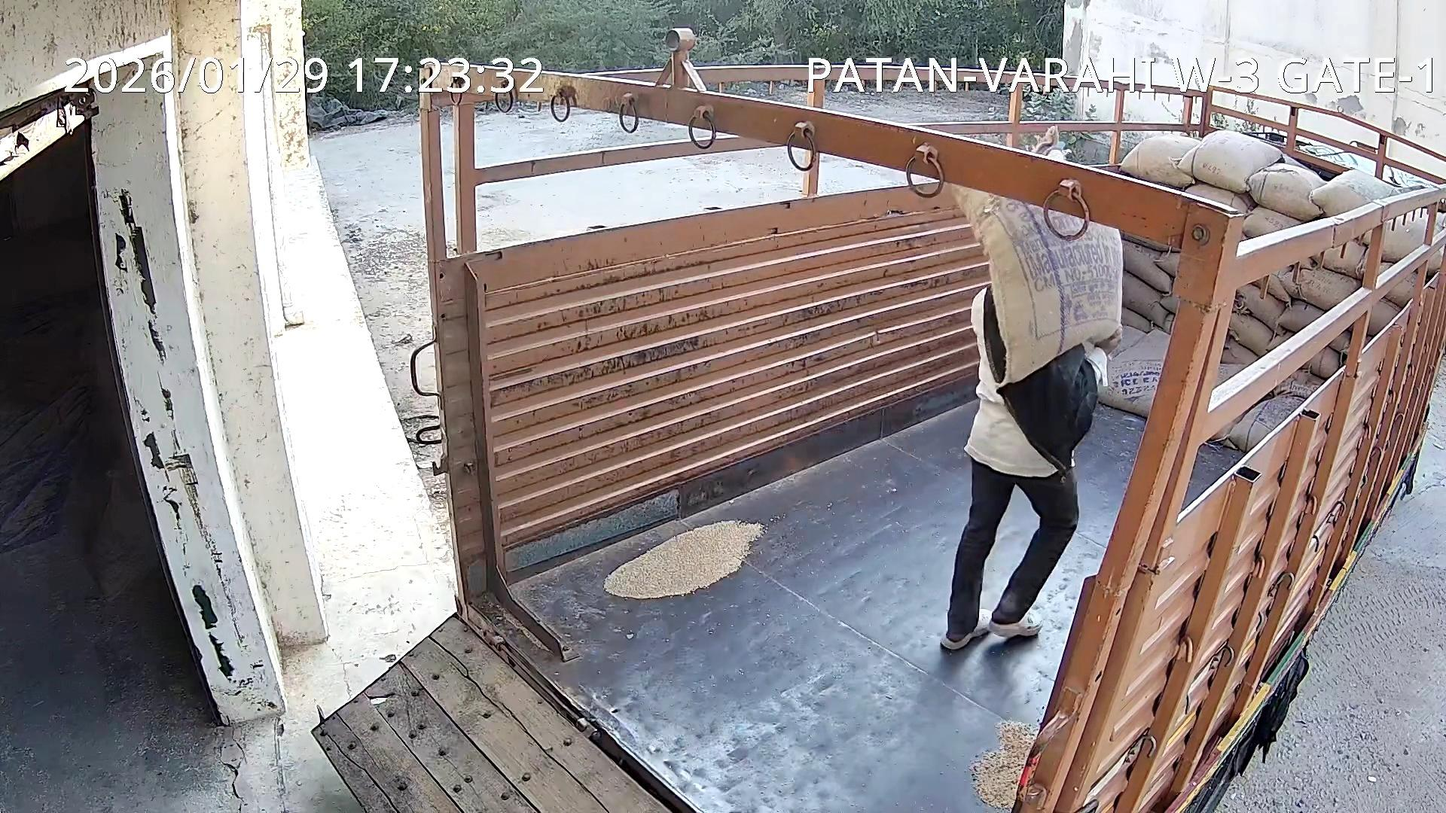Sack: (951, 187, 1123, 383)
